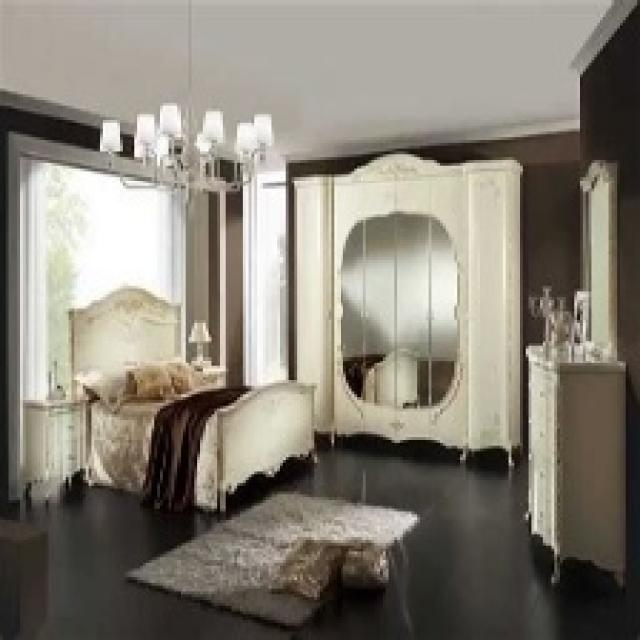Bed: (66, 283, 317, 511)
